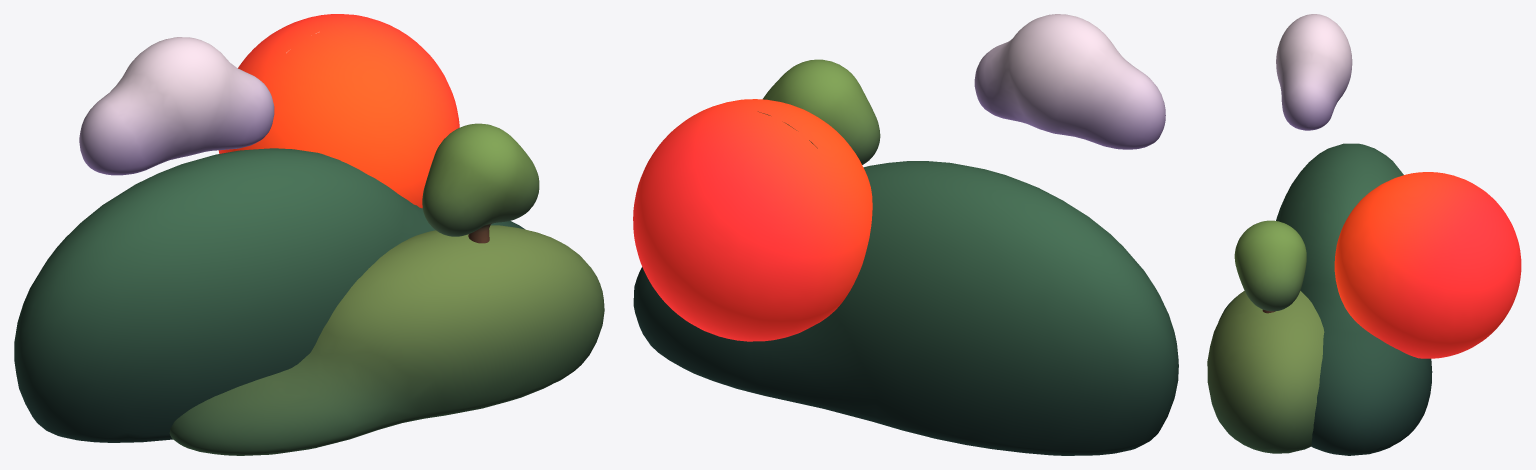
Rendered from evening.glb.
3 renders of one model, left to right at view 1: azimuth 30°, elevation 25°; view 2: azimuth 150°, elevation 25°; view 3: azimuth 270°, elevation 25°, orthographic. The views are drawn at different scales.
Visible parts, largest first — view 1: hill-back+hill-front, sun-core, cloud, tree; view 2: hill-back+hill-front, sun-core, cloud, tree; view 3: hill-back+hill-front, sun-core, cloud, tree.
Boxes of the visible parts, x1,y1,x2,y2 form: hill-back+hill-front: (14,148,604,455); sun-core: (218,14,459,208); cloud: (79,37,274,175); tree: (422,123,539,243); hill-back+hill-front: (633,161,1178,455); sun-core: (633,99,872,341); cloud: (974,14,1165,149); tree: (758,59,880,164); hill-back+hill-front: (1207,143,1432,455); sun-core: (1334,172,1521,358); cloud: (1276,14,1352,130); tree: (1234,220,1306,313).
Size of the model in its own units: 2.22 by 1.54 by 1.48.
